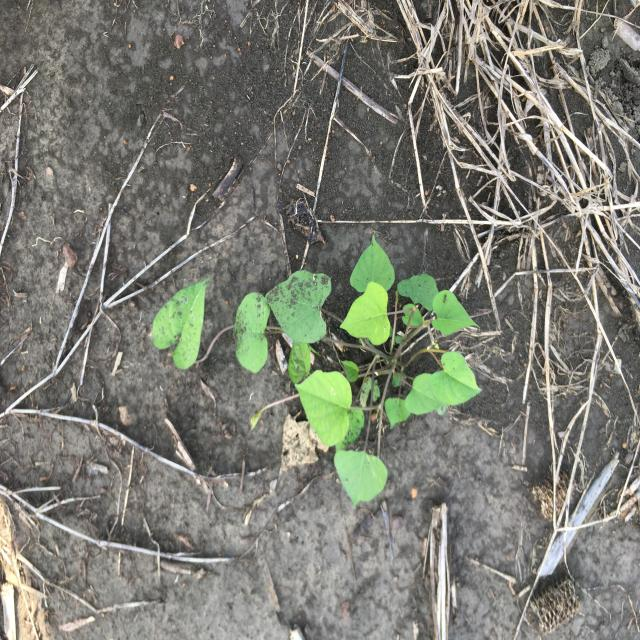MorningGlory: (151, 230, 485, 511)
